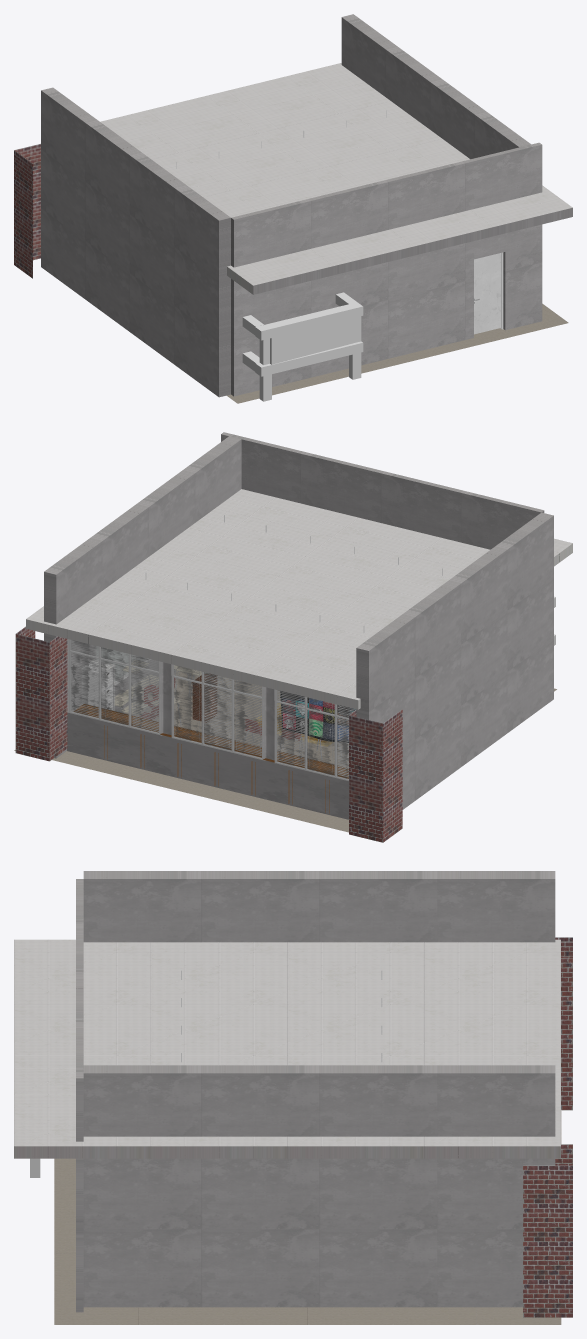
3 renders of one model, top to bottom at view 1: azimuth 30°, elevation 25°; view 2: azimuth 150°, elevation 25°; view 3: azimuth 270°, elevation 25°, orthographic. The views are drawn at different scales.
Visible parts, largest first — view 1: Cube.024, Cube.022, Cube.014, Cube, Cube.010, Cube.009, Cube.019; view 2: Cube.022, Cube.024, Cube.014, Cube.010, Cube.017, Cube.009, Cube.029, Cube.015, Cube.018, Cube.016, Plane, Cube.002 (+10 smaller); view 3: Cube.024, Cube.022, Cube.009, Cube.010, Cube.014.
Boxes of the visible parts, x1,y1,x2,y2 form: Cube.024: [41, 14, 530, 397]; Cube.022: [100, 63, 572, 294]; Cube.014: [231, 142, 542, 396]; Cube: [242, 292, 363, 401]; Cube.010: [14, 143, 40, 278]; Cube.009: [227, 303, 568, 403]; Cube.019: [474, 253, 500, 334]; Cube.022: [26, 489, 572, 709]; Cube.024: [44, 436, 553, 809]; Cube.014: [221, 432, 544, 549]; Cube.010: [15, 626, 402, 842]; Cube.017: [67, 712, 348, 819]; Cube.009: [14, 670, 556, 832]; Cube.029: [68, 639, 161, 734]; Cube.015: [171, 664, 264, 759]; Cube.018: [274, 689, 355, 780]; Cube.016: [73, 704, 348, 813]; Plane: [280, 691, 355, 742]; Cube.002: [159, 661, 275, 762]; Cube.024: [83, 871, 555, 1307]; Cube.022: [14, 939, 560, 1158]; Cube.009: [54, 1111, 561, 1324]; Cube.010: [523, 937, 572, 1317]; Cube.014: [76, 879, 83, 1312].
Size of the model in its own units: 9.43 by 4.6 by 9.58.
7 materials, 6 textured.
